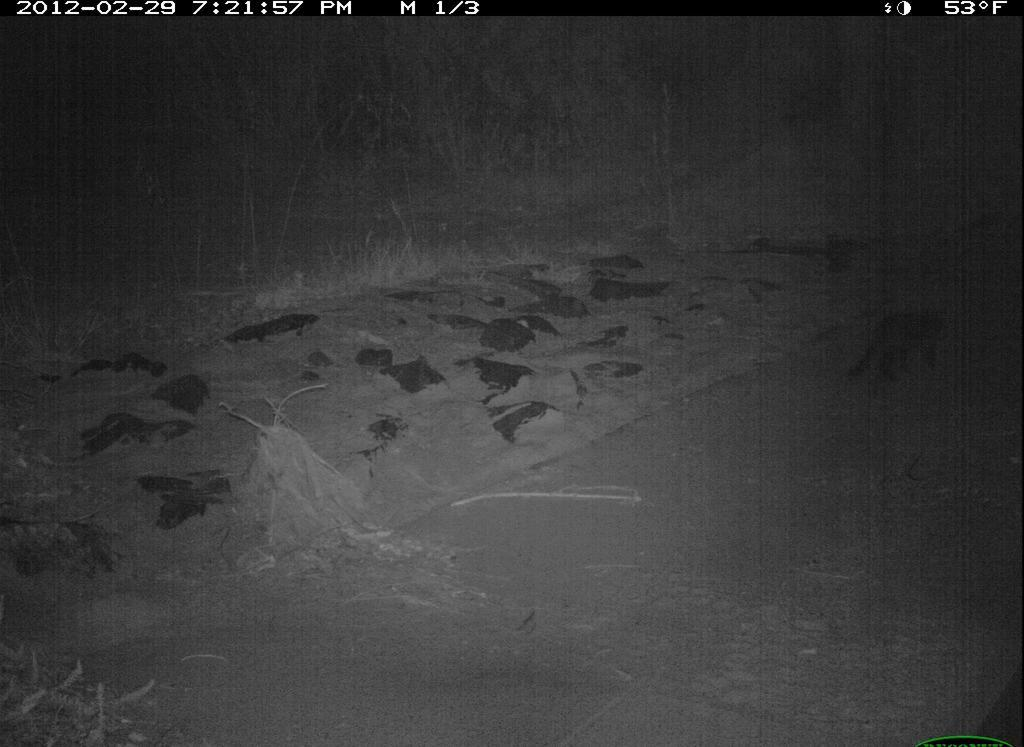cat: (848, 301, 948, 387)
